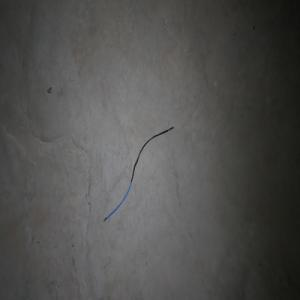Wire: (103, 125, 173, 222)
